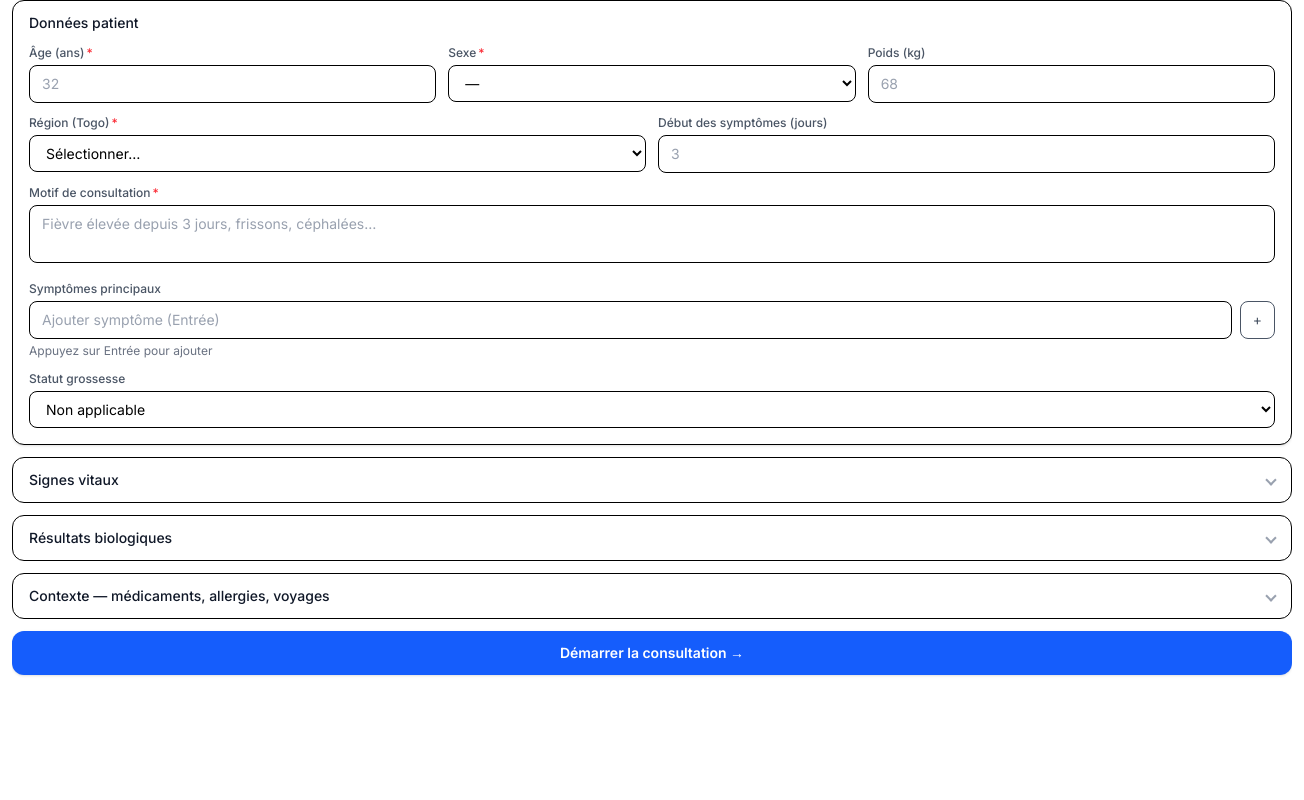
Scenario: IntakeForm — mandatory field validation › rejects submission when all mandatory fields are empty
This screenshot has width=1304, height=800.
Click the button "Démarrer la consultation →": [652, 653] box [12, 631, 1292, 675]
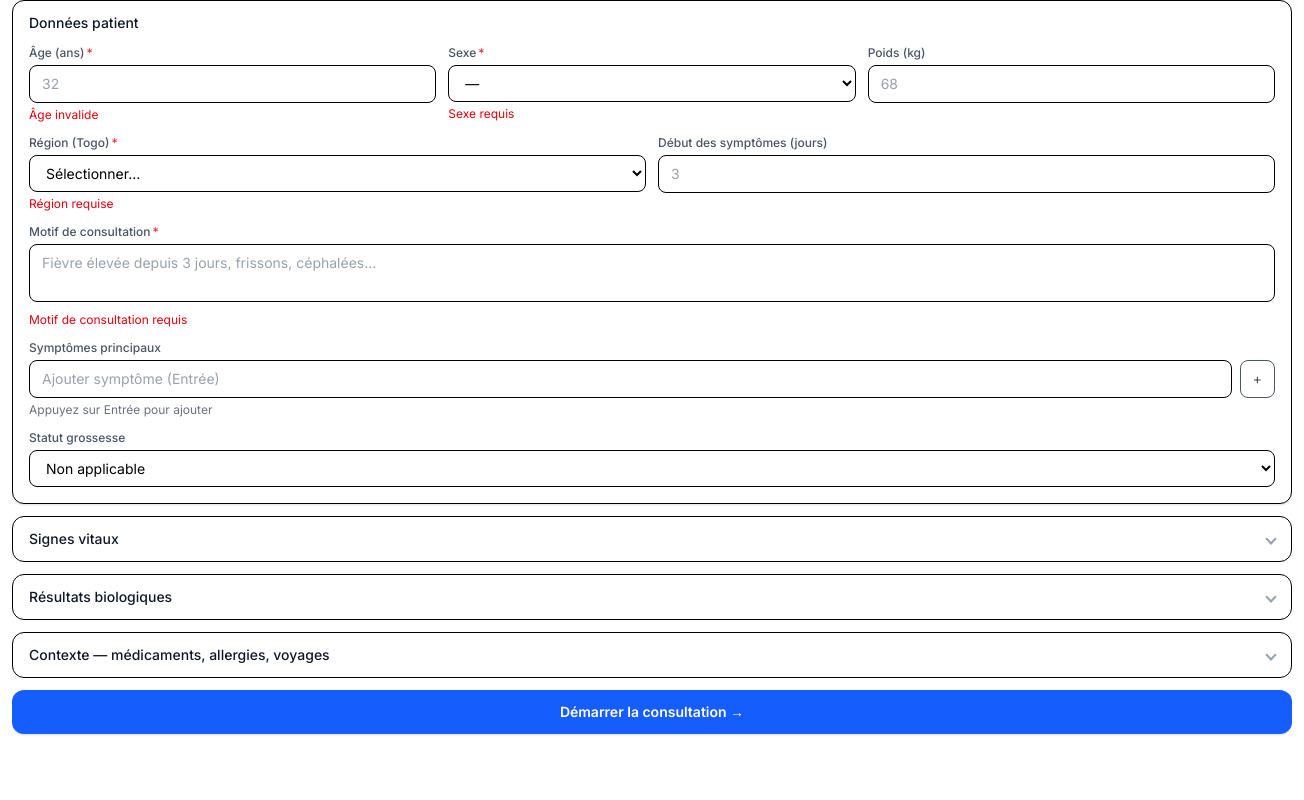
expect the text "Âge invalide" is shown: met, box [29, 107, 98, 122]
expect the text "Sexe requis" is shown: met, box [448, 106, 514, 121]
expect the text "Région requise" is shown: met, box [29, 196, 114, 211]
